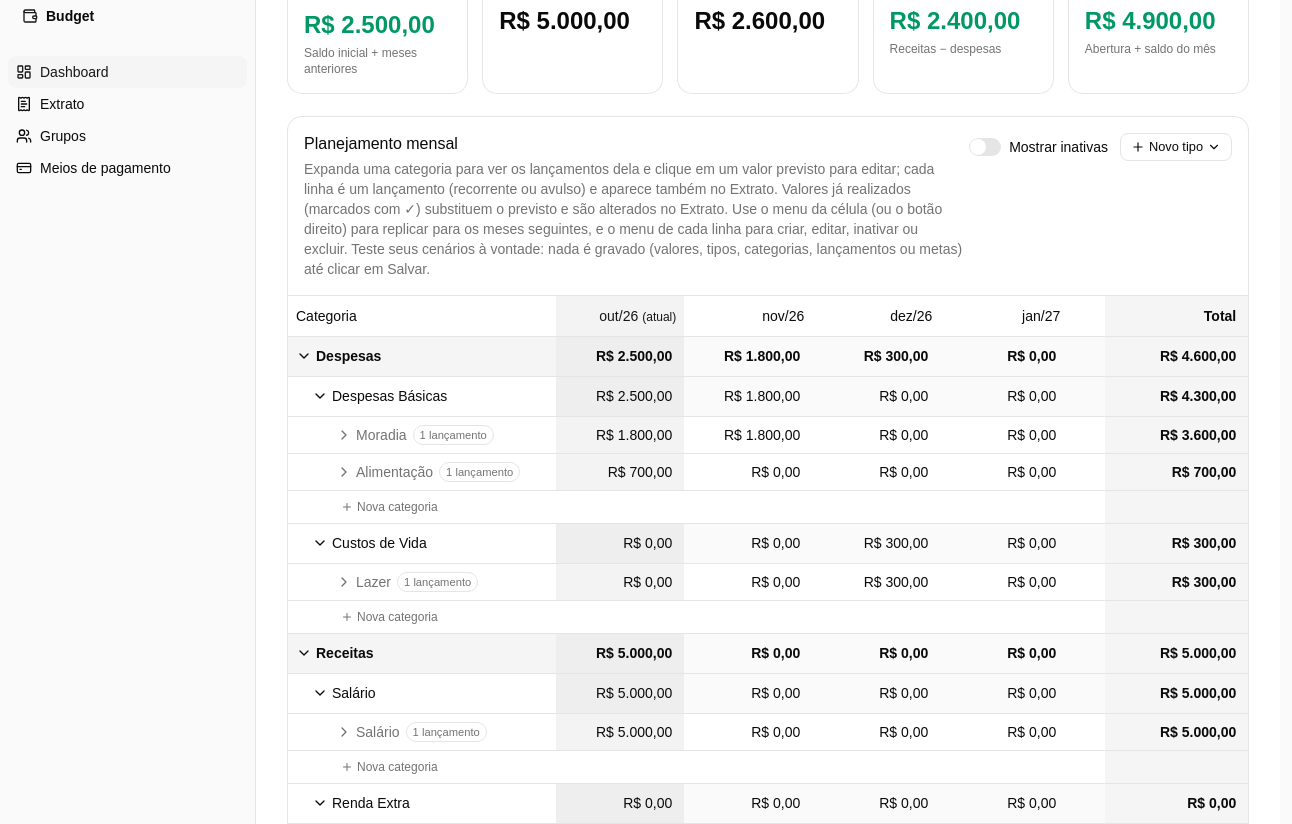
Test: Dashboard route (/) › balance cards › counts realized amounts in the cards, plus unsaved edits of the month
(page scrolled)
Check: the text "R$ 2.600,00" is shown, box [694,5,842,37]
Check: the text "R$ 4.900,00" is shown, box [1085,5,1232,37]
Click the button "Moradia".
click(371, 434)  # box [336,424,407,444]
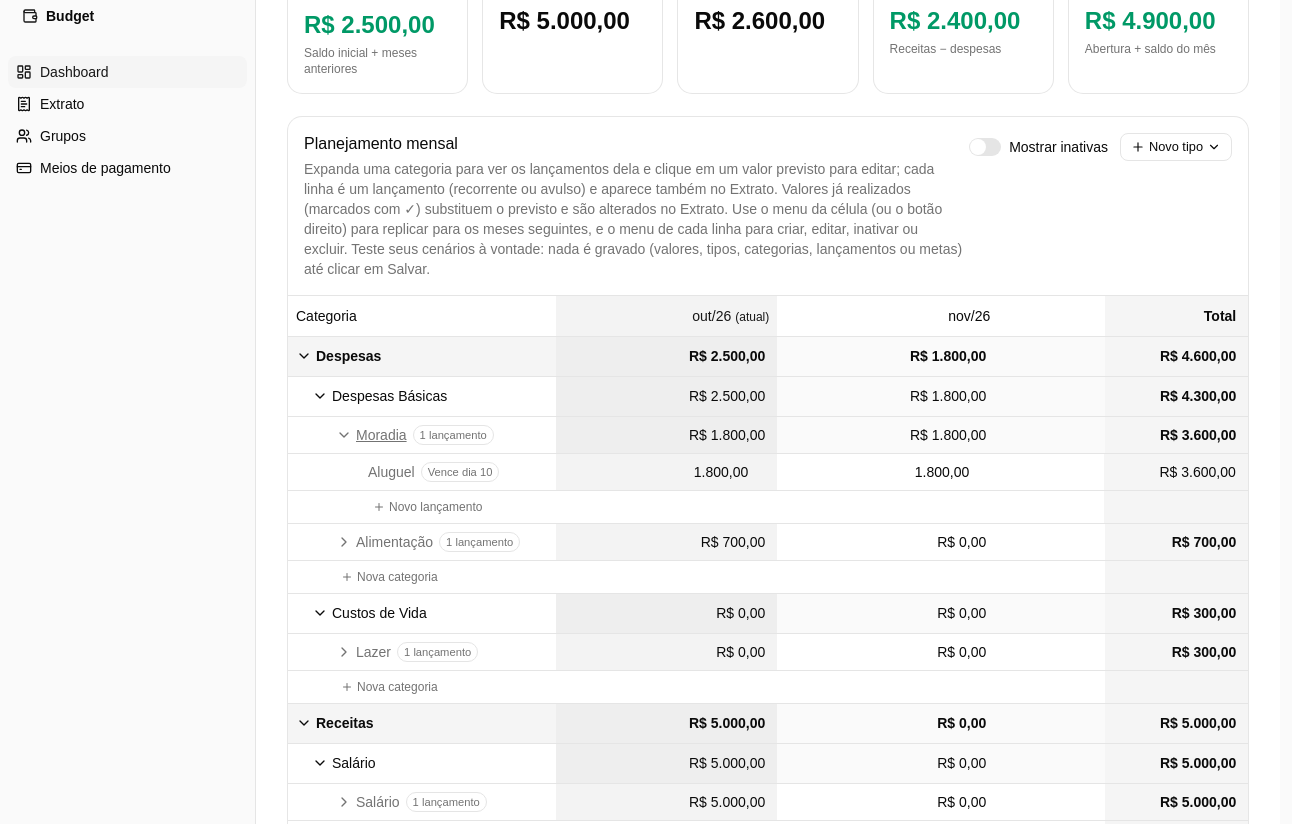
Replace the text in the field named "Aluguel em outubro de 2026" with "2.000" at x=667, y=472, box [556,454,777,490]
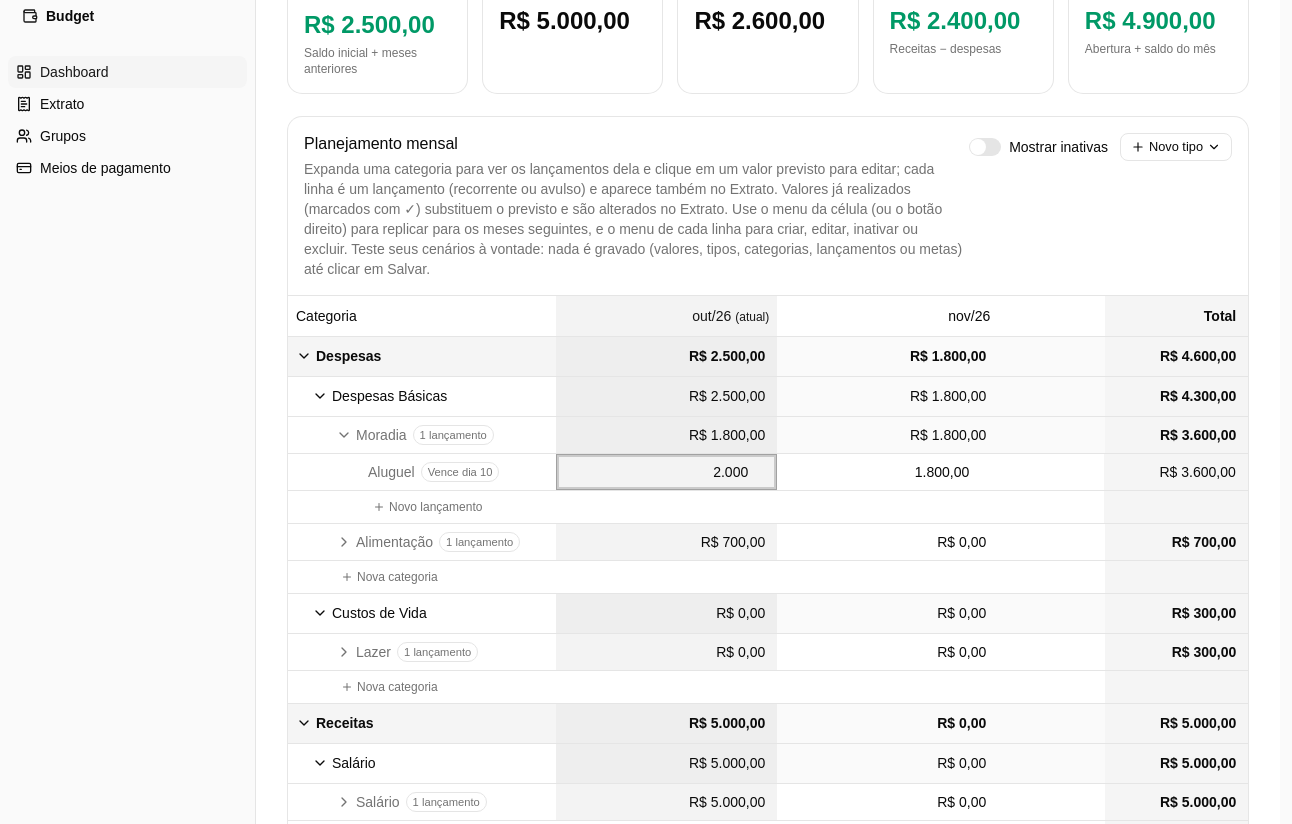
Press Tab
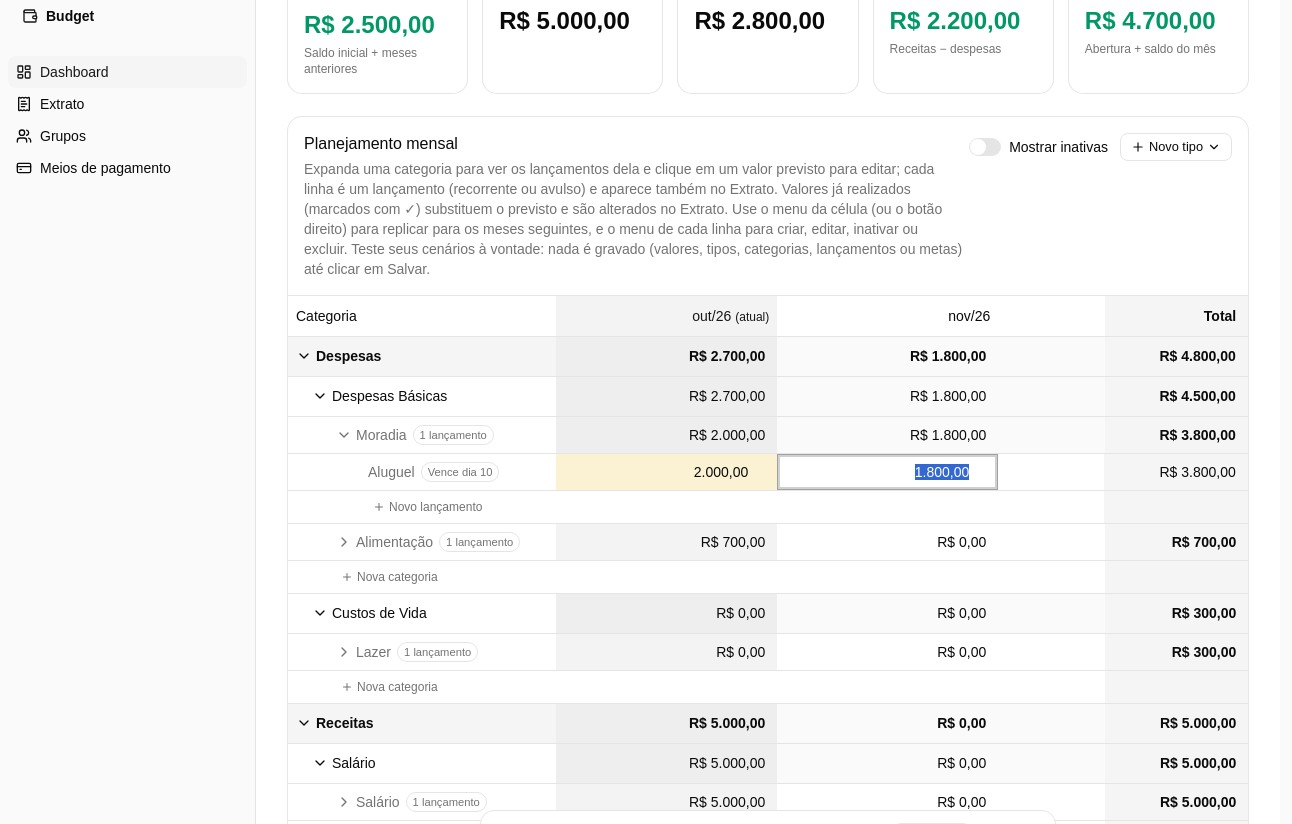
Check: the text "R$ 2.800,00" is shown, box [694,5,842,37]
